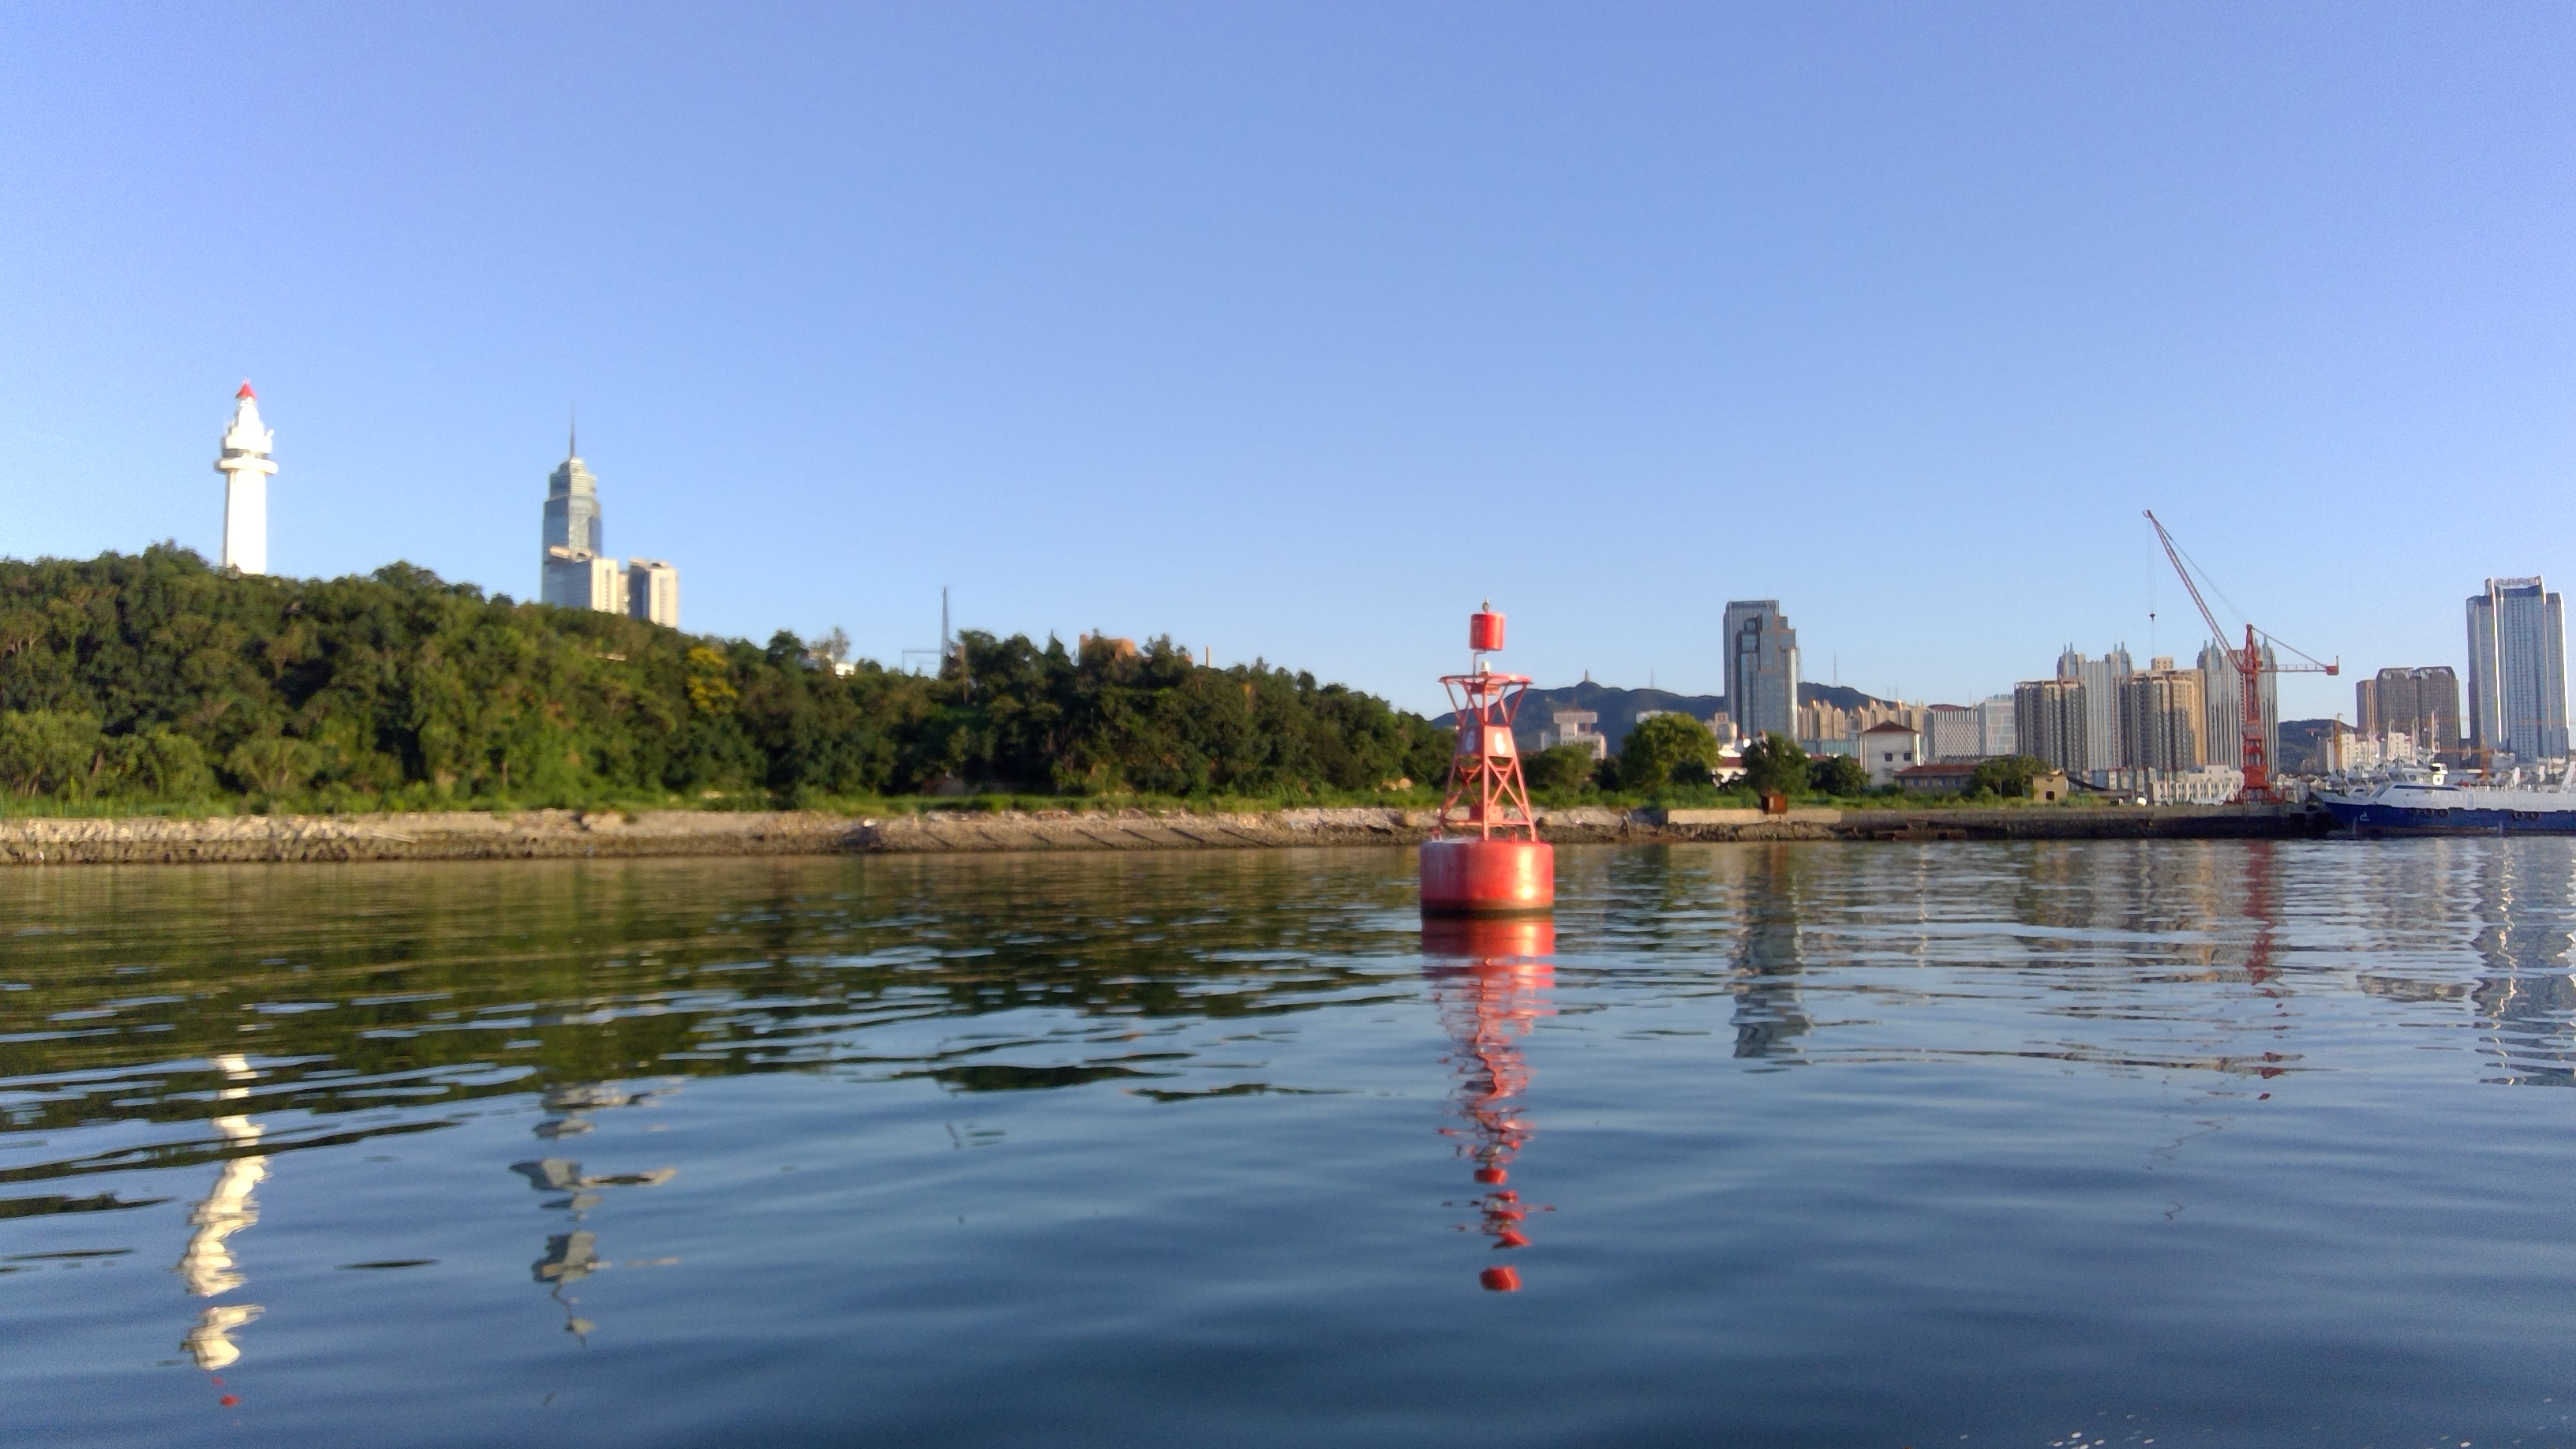buoy: (1408, 593, 1575, 922)
ship: (2279, 717, 2576, 847)
